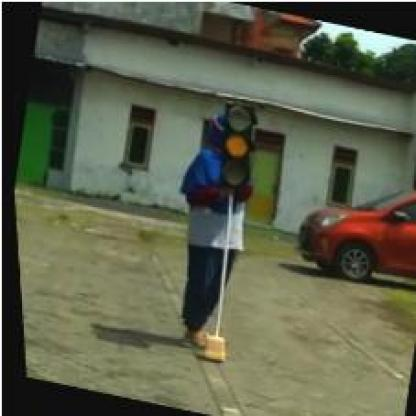yellow: (204, 98, 261, 192)
